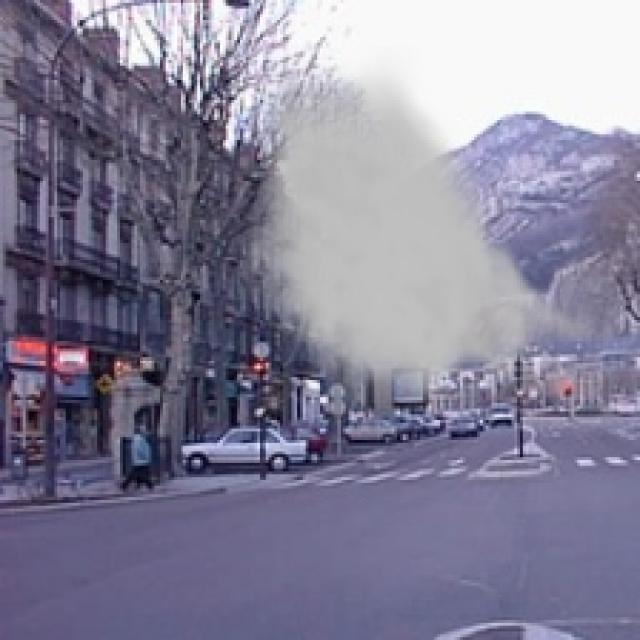Smoke: (240, 46, 603, 417)
